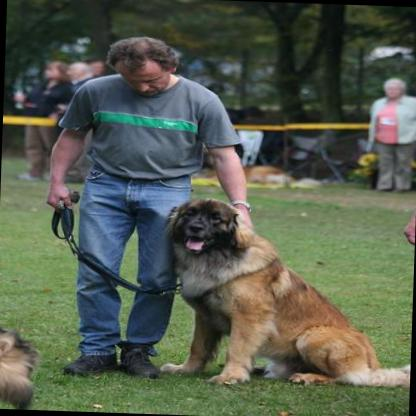Leonberg: (156, 197, 412, 390)
